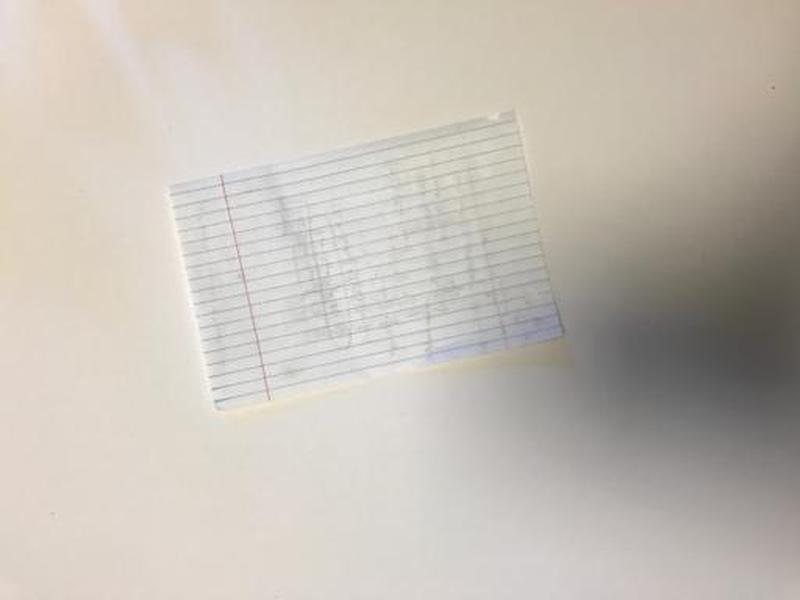paper: (158, 104, 578, 418)
